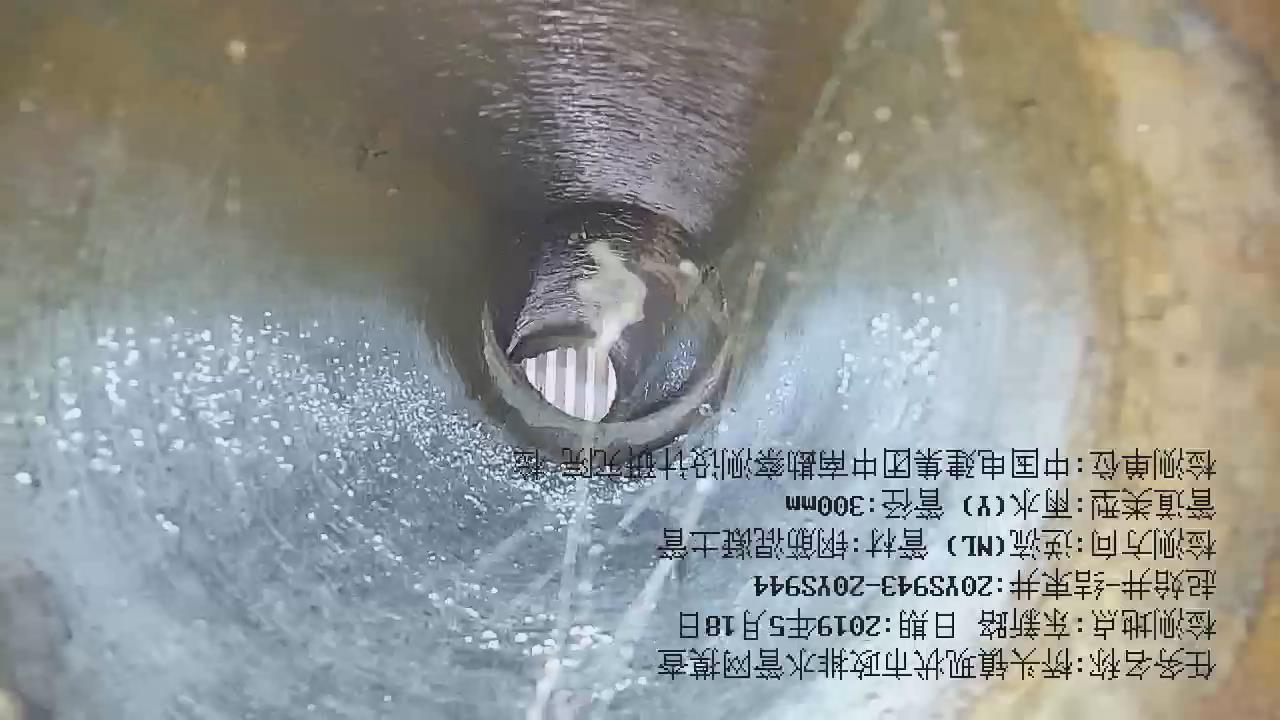CKTJ: (482, 311, 735, 452)
